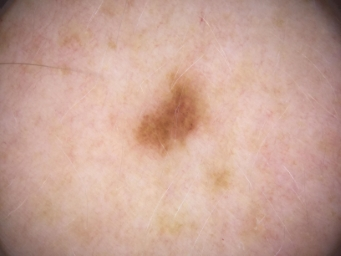melanoma: (135, 81, 203, 151)
